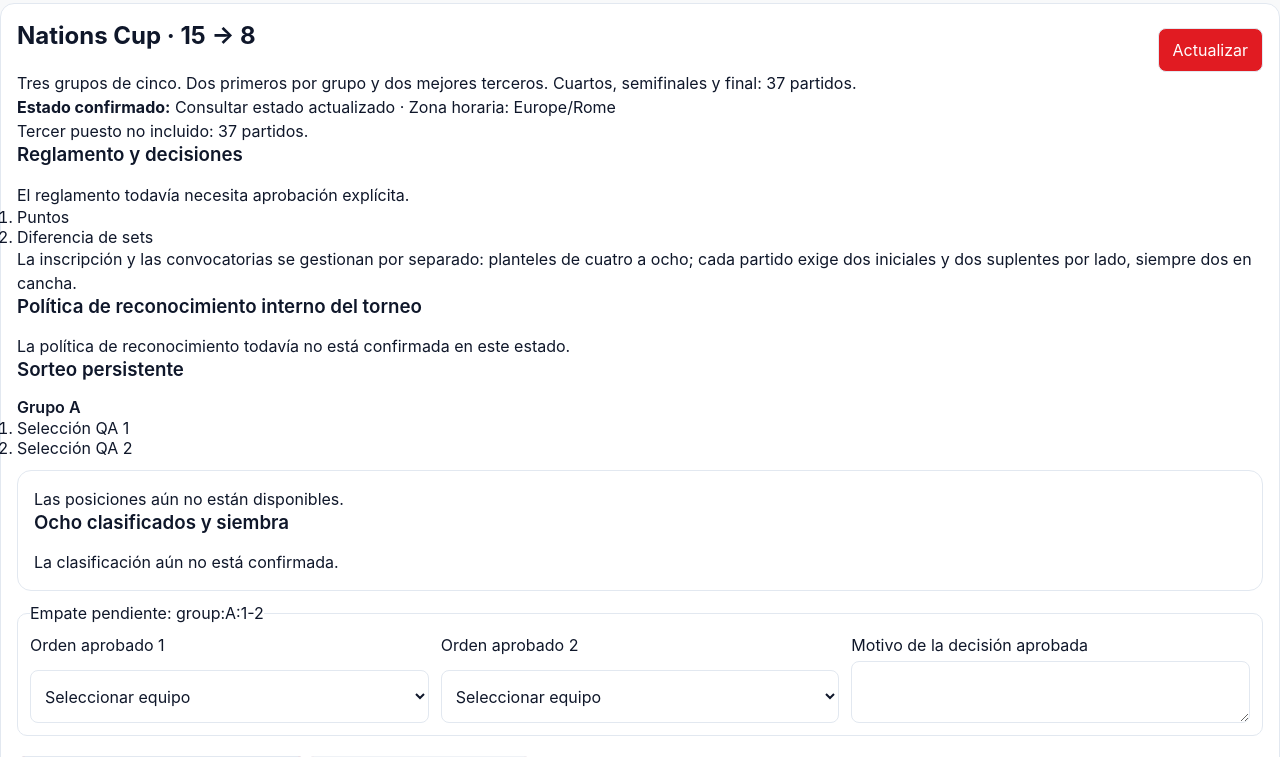
Test: partial tie decisions are persisted before the next tie stage and cannot advance a provisional bracket
Check: the text "Empate pendiente: group:A:1-2" is shown, box [30, 603, 264, 623]
Select "Selección QA 2" in the dropdown labelled "Orden aprobado 1" at (229, 697), box [30, 670, 429, 723]
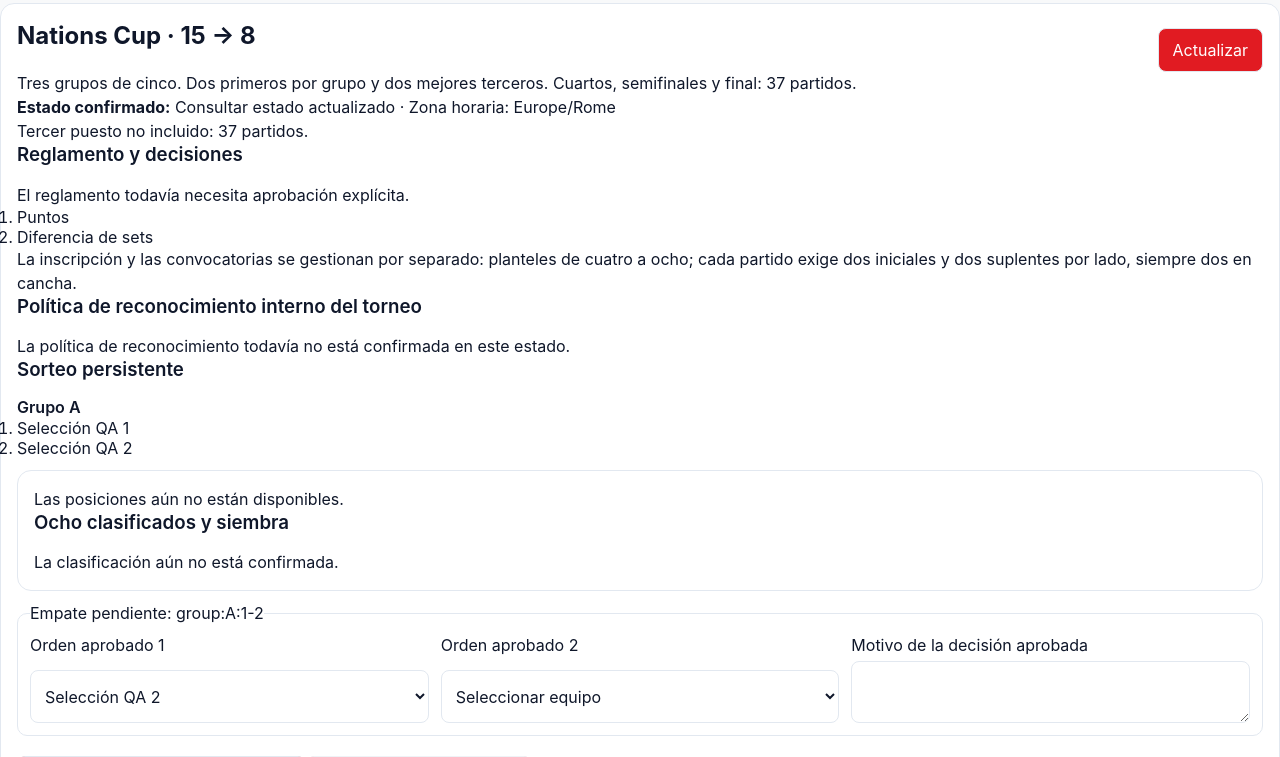
Select "Selección QA 1" in the dropdown labelled "Orden aprobado 2" at (640, 697), box [441, 670, 839, 723]
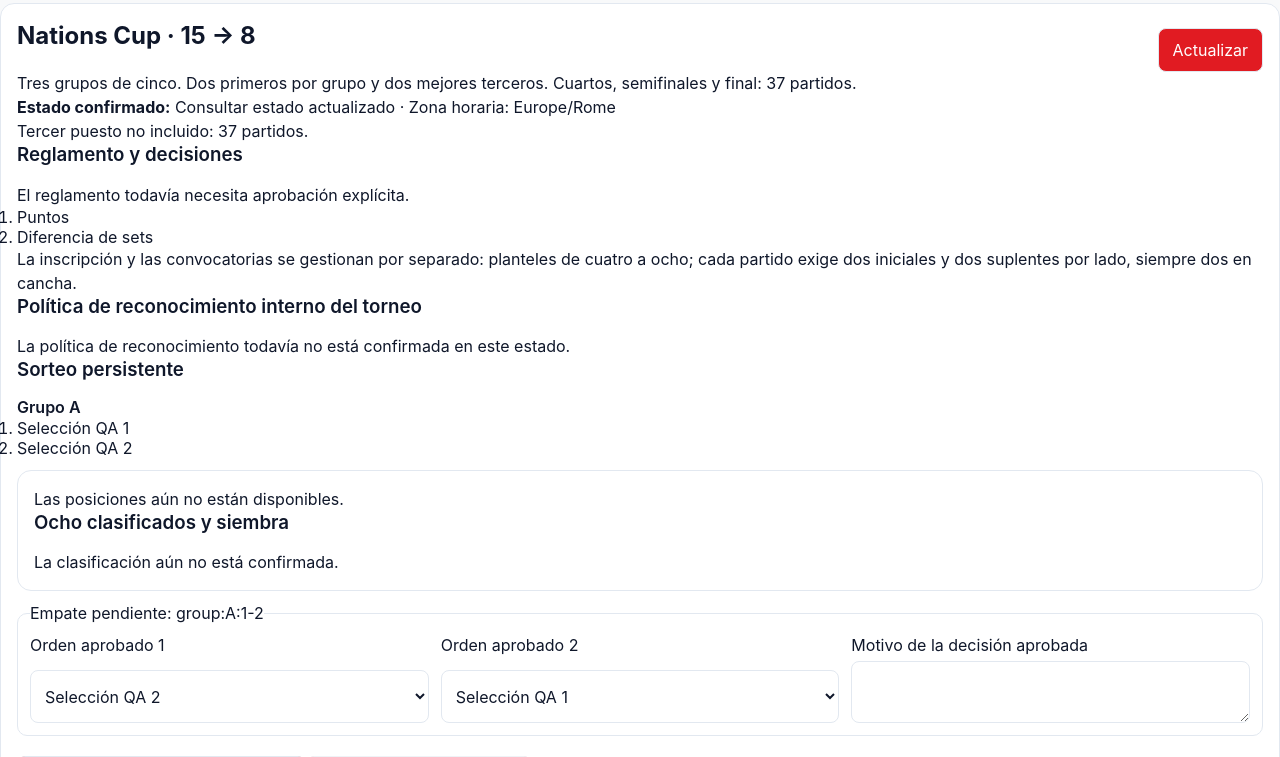
Type "Decisión deportiva QA aprobada" into the text box at (1051, 692), box [851, 661, 1250, 723]
(page scrolled)
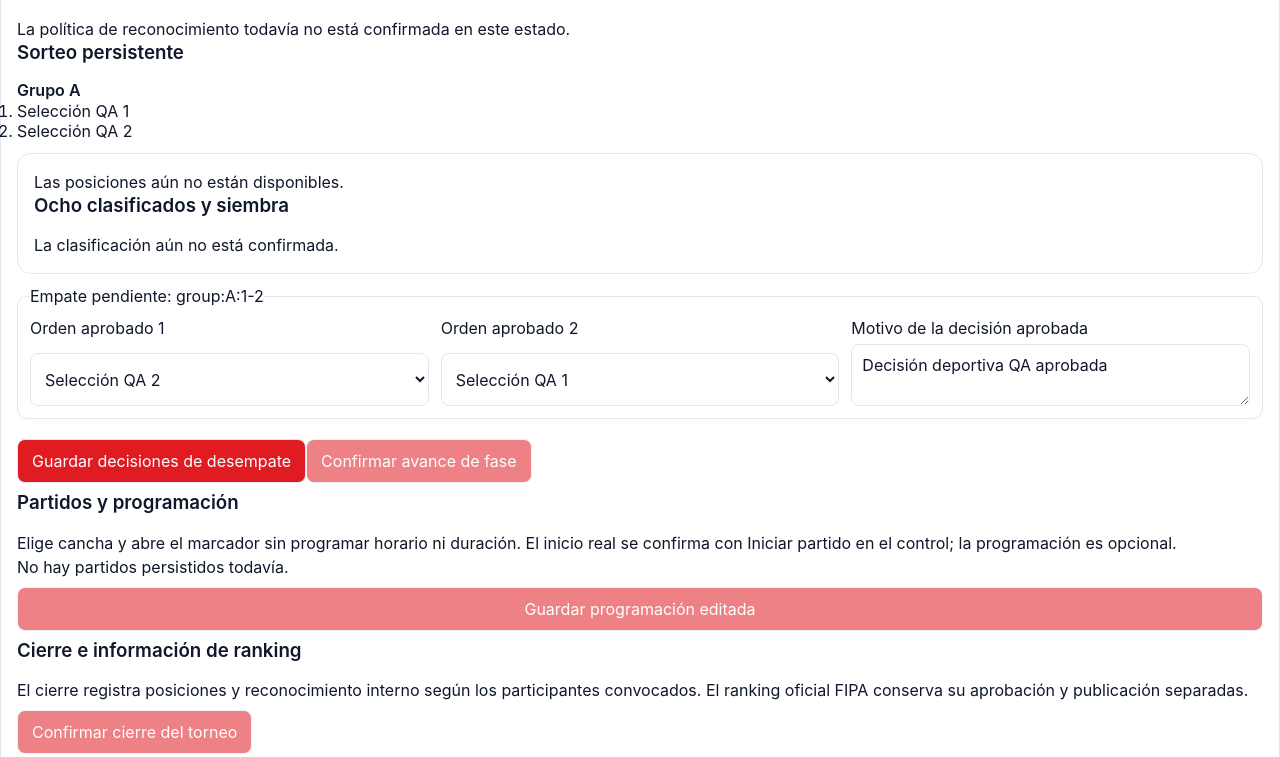
Click the button "Guardar decisiones de desempate" at (162, 461), box [17, 439, 306, 483]
(page scrolled)
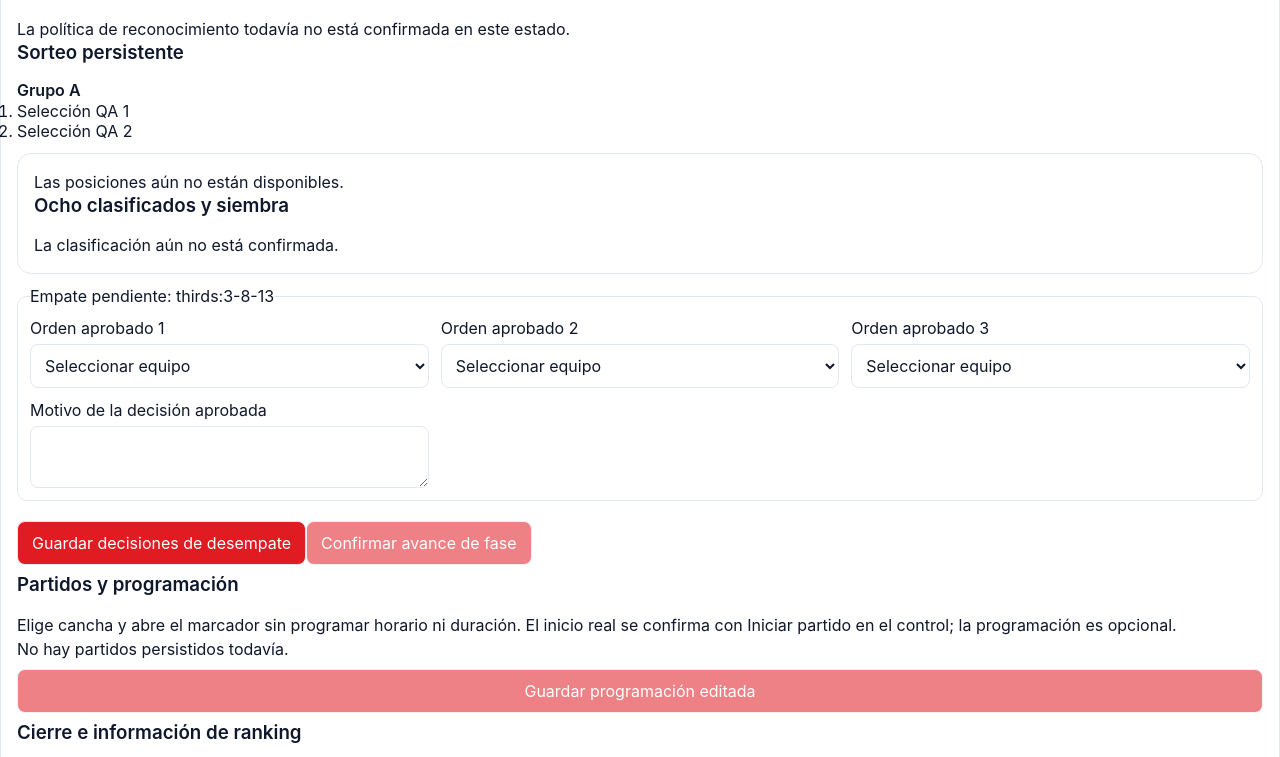
Check: the text "Empate pendiente: thirds:3-8-13" is shown, box [30, 286, 274, 306]
Check: the number of dropdowns is 3, box [30, 344, 429, 388]; [441, 344, 839, 388]; [851, 344, 1250, 388]
Check: the text box is empty, box [30, 426, 429, 488]
